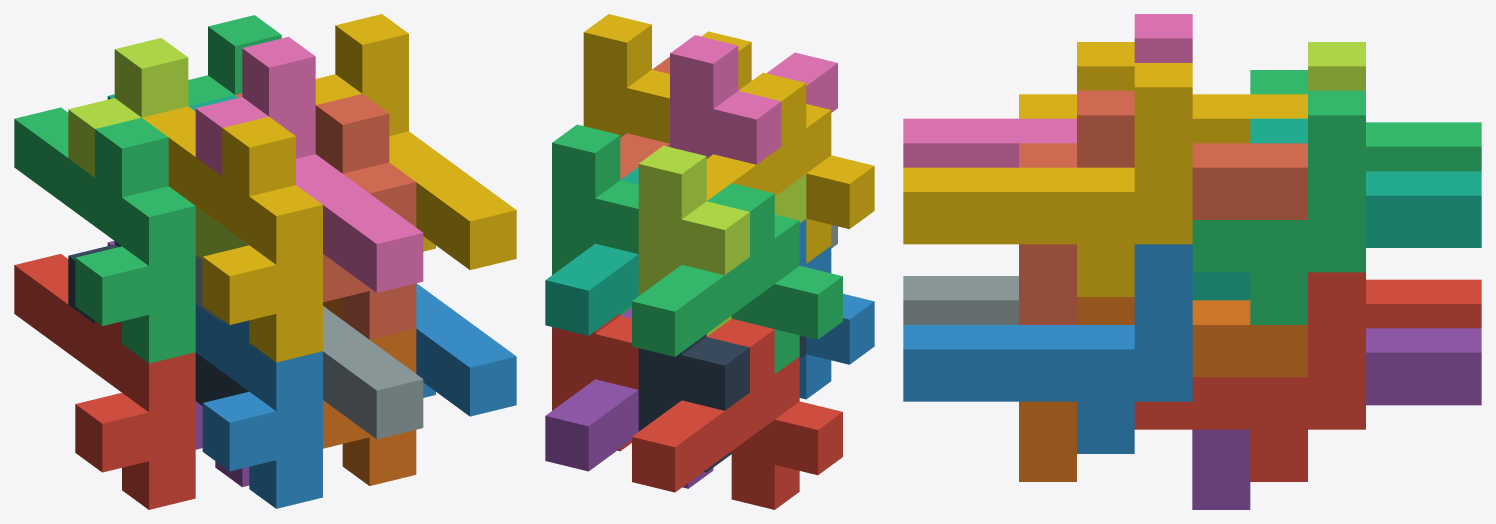
Rendered from tiling.obj.
3 renders of one model, left to right at view 1: azimuth 30°, elevation 25°; view 2: azimuth 150°, elevation 25°; view 3: azimuth 270°, elevation 25°, orthographic. The views are drawn at different scales.
Parts seen in each view (by area): view 1: copy_1_domain_3, copy_1_domain_4, copy_1_domain_1, copy_2_domain_4, copy_1_domain_2, copy_2_domain_8, copy_1_domain_8, copy_2_domain_3, copy_2_domain_2, copy_2_domain_6, copy_1_domain_6, copy_2_domain_7 (+2 smaller); view 2: copy_1_domain_1, copy_1_domain_3, copy_2_domain_4, copy_2_domain_3, copy_1_domain_4, copy_2_domain_8, copy_2_domain_7, copy_2_domain_1, copy_1_domain_5, copy_1_domain_7, copy_2_domain_5, copy_1_domain_2 (+1 smaller); view 3: copy_2_domain_8, copy_2_domain_6, copy_2_domain_5, copy_2_domain_7, copy_1_domain_8, copy_1_domain_6, copy_1_domain_5, copy_1_domain_7, copy_2_domain_4, copy_1_domain_4, copy_1_domain_3, copy_1_domain_1 (+2 smaller).
Part boxes in pixels (left/top/right/bottom): copy_1_domain_3: left=14, top=107, right=195, bottom=363; copy_1_domain_4: left=142, top=106, right=322, bottom=362; copy_1_domain_1: left=14, top=254, right=195, bottom=509; copy_2_domain_4: left=195, top=36, right=423, bottom=292; copy_1_domain_2: left=195, top=304, right=322, bottom=508; copy_2_domain_8: left=315, top=14, right=516, bottom=269; copy_1_domain_8: left=235, top=93, right=416, bottom=339; copy_2_domain_3: left=68, top=38, right=248, bottom=259; copy_2_domain_2: left=195, top=255, right=423, bottom=439; copy_2_domain_6: left=416, top=283, right=516, bottom=416; copy_1_domain_6: left=323, top=297, right=416, bottom=485; copy_2_domain_7: left=188, top=15, right=281, bottom=106; copy_1_domain_1: left=632, top=318, right=842, bottom=509; copy_1_domain_3: left=632, top=183, right=842, bottom=373; copy_2_domain_4: left=670, top=35, right=837, bottom=164; copy_2_domain_3: left=638, top=145, right=806, bottom=336; copy_1_domain_4: left=706, top=72, right=874, bottom=263; copy_2_domain_8: left=583, top=14, right=751, bottom=143; copy_2_domain_7: left=552, top=124, right=638, bottom=315; copy_2_domain_1: left=638, top=334, right=806, bottom=472; copy_1_domain_5: left=545, top=307, right=713, bottom=488; copy_1_domain_7: left=545, top=167, right=638, bottom=335; copy_2_domain_5: left=552, top=313, right=638, bottom=451; copy_1_domain_2: left=799, top=219, right=874, bottom=399; copy_2_domain_8: left=903, top=63, right=1192, bottom=296; copy_2_domain_6: left=903, top=244, right=1192, bottom=453; copy_2_domain_5: left=1134, top=272, right=1365, bottom=481; copy_2_domain_7: left=1192, top=90, right=1365, bottom=324; copy_1_domain_8: left=1019, top=90, right=1307, bottom=324; copy_1_domain_6: left=1019, top=297, right=1307, bottom=481; copy_1_domain_5: left=1192, top=328, right=1481, bottom=509; copy_1_domain_7: left=1192, top=118, right=1481, bottom=300; copy_2_domain_4: left=903, top=14, right=1192, bottom=167; copy_1_domain_4: left=1019, top=42, right=1307, bottom=143; copy_1_domain_3: left=1250, top=70, right=1481, bottom=171; copy_1_domain_1: left=1366, top=279, right=1481, bottom=328.
Bounding box in the file's own units: 6 × 9 × 10.
